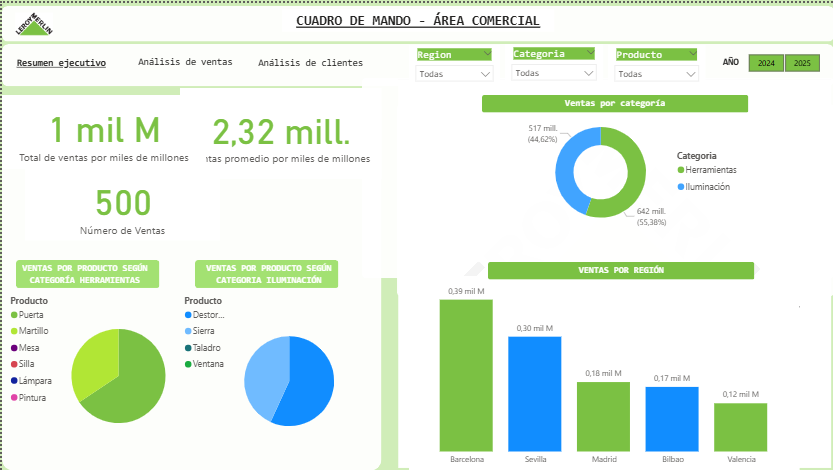

This screenshot's page, from the dashboard's own definition file:
{"tool":"powerbi","page":{"name":"Resumen ejecutivo","canvas":[1280,720],"ordinal":0},"visuals":[{"type":"shape","box":[0,4,1280,54.7],"z":0,"group":"g1"},{"type":"textbox","box":[430.3,9.3,419.3,35.3],"z":0,"group":"g6"},{"type":"shape","box":[554,116,726,308],"z":0},{"type":"shape","box":[738,141.3,410,27.3],"z":0,"group":"g3"},{"type":"shape","box":[297.1,396,220.7,43.5],"z":0,"group":"g5"},{"type":"shape","box":[21.5,396.1,220.7,43.5],"z":0,"group":"g4"},{"type":"shape","box":[748.1,397.6,410,27.3],"z":0,"group":"g7"},{"type":"shape","box":[742,419.3,410,27.3],"z":0,"group":"g2"},{"type":"group","id":"g1","title":"Background","box":[0,4,1280,716],"z":1000},{"type":"image","box":[16,6.7,68,49.3],"z":1000,"group":"g1"},{"type":"textbox","box":[7.1,78.1,166.7,31.3],"z":1000,"group":"g6"},{"type":"textbox","box":[859.7,140,166.7,31.3],"z":1000,"group":"g3"},{"type":"textbox","box":[18,394,218.1,49.4],"z":1000,"group":"g4"},{"type":"textbox","box":[301.7,394,218.1,49.4],"z":1000,"group":"g5"},{"type":"textbox","box":[869.8,396.3,166.7,31.3],"z":1000,"group":"g7"},{"type":"textbox","box":[863.7,418,166.7,31.3],"z":1000,"group":"g2"},{"type":"textbox","box":[185.1,77.3,192,32],"z":2000,"group":"g6"},{"type":"image","box":[604,111.2,676,608],"z":2000,"group":"g1"},{"type":"group","id":"g2","title":"Título 2","box":[742,418,410,32],"z":2000},{"type":"shape","box":[0,62.1,1280,65.4],"z":3000,"group":"g1"},{"type":"textbox","box":[361.1,78.1,226.7,31.3],"z":3000,"group":"g6"},{"type":"textbox","box":[1097.5,77.5,45,30],"z":3500,"group":"g6"},{"type":"shape","box":[187.1,75.3,192,30],"z":4000,"group":"g6"},{"type":"shape","box":[640,123.2,600,276],"z":4000,"group":"g1"},{"type":"shape","box":[608,156,672,296],"z":4000},{"type":"shape","box":[370.4,78.1,206.7,31.3],"z":5000,"group":"g6"},{"type":"shape","box":[0,141.2,584,578],"z":5000,"group":"g1"},{"type":"clusteredColumnChart","fields":{"Category":["ventas_leroy_merlin.region"],"Y":["ventas_leroy_merlin.TotalVentas_MilesDeMillones"]},"box":[625.9,419.8,601.2,300],"z":5000},{"type":"slicer","fields":{"Values":["ventas_leroy_merlin.AñoVenta"]},"box":[1122.1,71.9,159,39.8],"z":5250,"group":"g6"},{"type":"slicer","fields":{"Values":["ventas_leroy_merlin.region"]},"box":[625.4,64.3,140,60],"z":5500,"group":"g6"},{"type":"slicer","fields":{"Values":["ventas_leroy_merlin.category"]},"box":[773.2,63.9,151.2,60],"z":6000,"group":"g6"},{"type":"card","fields":{"Values":["ventas_leroy_merlin.NumeroDeVentas"]},"box":[36,256,300,110],"z":6000},{"type":"slicer","fields":{"Values":["ventas_leroy_merlin.product"]},"box":[932.1,64.3,150,60],"z":6500,"group":"g6"},{"type":"card","fields":{"Values":["ventas_leroy_merlin.PromedioPorVenta_MilM"]},"box":[274,130,310,140],"z":7000},{"type":"group","id":"g3","title":"Título 2","box":[738,140,410,32],"z":8000},{"type":"pieChart","fields":{"Y":["ventas_leroy_merlin.TotalVentas_MilesDeMillones"],"Category":["ventas_leroy_merlin.product"]},"box":[7.9,444.3,267.1,258.6],"z":9000},{"type":"donutChart","fields":{"Category":["ventas_leroy_merlin.category"],"Y":["ventas_leroy_merlin.TotalVentas_MilesDeMillones"]},"box":[798,118,346,284],"z":10000},{"type":"pieChart","fields":{"Y":["ventas_leroy_merlin.TotalVentas_MilesDeMillones"],"Category":["ventas_leroy_merlin.product"]},"box":[275.7,444.3,257.9,274.3],"z":11000},{"type":"group","id":"g4","title":"Subtítulo 1","box":[18,394,224.2,49.4],"z":12000},{"type":"group","id":"g5","title":"Subtítulo 1","box":[297.1,394,222.7,49.4],"z":13000},{"type":"card","fields":{"Values":["ventas_leroy_merlin.TotalVentas_MilesDeMillones"]},"box":[0,142,314,114],"z":14000},{"type":"group","id":"g6","title":"Cabeceras","box":[7.1,9.3,1274.1,115],"z":15000},{"type":"group","id":"g7","title":"Título 2","box":[748.1,396.3,409.9,30.9],"z":15001}]}

Visuals, with their boxes in screenshot pixels (x1, y1, x2, y2), scaled from the page's 1280x720 canvas onto the 833x470 screenshot:
shape: detection(0, 3, 832, 38)
textbox: detection(280, 6, 553, 29)
shape: detection(361, 76, 832, 277)
shape: detection(480, 92, 747, 110)
shape: detection(193, 258, 337, 287)
shape: detection(14, 259, 158, 287)
shape: detection(487, 260, 754, 277)
shape: detection(483, 274, 750, 292)
"Background" group: detection(0, 3, 832, 469)
image: detection(10, 4, 55, 37)
textbox: detection(5, 51, 113, 71)
textbox: detection(559, 91, 668, 112)
textbox: detection(12, 257, 154, 289)
textbox: detection(196, 257, 338, 289)
textbox: detection(566, 259, 675, 279)
textbox: detection(562, 273, 671, 293)
textbox: detection(120, 50, 245, 71)
image: detection(393, 73, 832, 469)
"Título 2" group: detection(483, 273, 750, 294)
shape: detection(0, 41, 832, 83)
textbox: detection(235, 51, 383, 71)
textbox: detection(714, 51, 744, 70)
shape: detection(122, 49, 247, 69)
shape: detection(416, 80, 807, 261)
shape: detection(396, 102, 832, 295)
shape: detection(241, 51, 376, 71)
shape: detection(0, 92, 380, 469)
clusteredColumnChart - ventas_leroy_merlin.region x ventas_leroy_merlin.TotalVentas_MilesDeMillones: detection(407, 274, 799, 469)
slicer - ventas_leroy_merlin.AñoVenta: detection(730, 47, 832, 73)
slicer - ventas_leroy_merlin.region: detection(407, 42, 498, 81)
slicer - ventas_leroy_merlin.category: detection(503, 42, 602, 81)
card - ventas_leroy_merlin.NumeroDeVentas: detection(23, 167, 219, 239)
slicer - ventas_leroy_merlin.product: detection(607, 42, 704, 81)
card - ventas_leroy_merlin.PromedioPorVenta_MilM: detection(178, 85, 380, 176)
"Título 2" group: detection(480, 91, 747, 112)
pieChart - ventas_leroy_merlin.TotalVentas_MilesDeMillones x ventas_leroy_merlin.product: detection(5, 290, 179, 459)
donutChart - ventas_leroy_merlin.category x ventas_leroy_merlin.TotalVentas_MilesDeMillones: detection(519, 77, 744, 262)
pieChart - ventas_leroy_merlin.TotalVentas_MilesDeMillones x ventas_leroy_merlin.product: detection(179, 290, 347, 469)
"Subtítulo 1" group: detection(12, 257, 158, 289)
"Subtítulo 1" group: detection(193, 257, 338, 289)
card - ventas_leroy_merlin.TotalVentas_MilesDeMillones: detection(0, 93, 204, 167)
"Cabeceras" group: detection(5, 6, 832, 81)
"Título 2" group: detection(487, 259, 754, 279)
